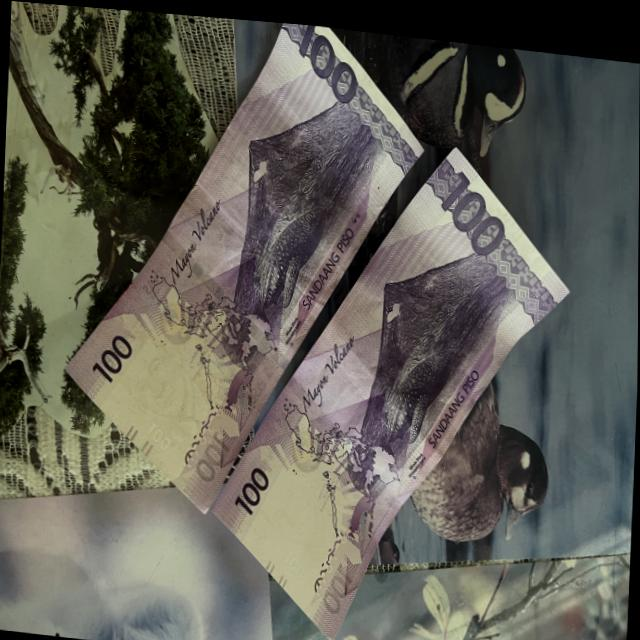100_whale: (241, 176, 338, 348), (370, 314, 462, 460)
100_whale_watermark: (215, 324, 275, 424), (342, 467, 394, 543)
value_watermark: (134, 409, 181, 458)
watermark: (119, 324, 226, 461)
